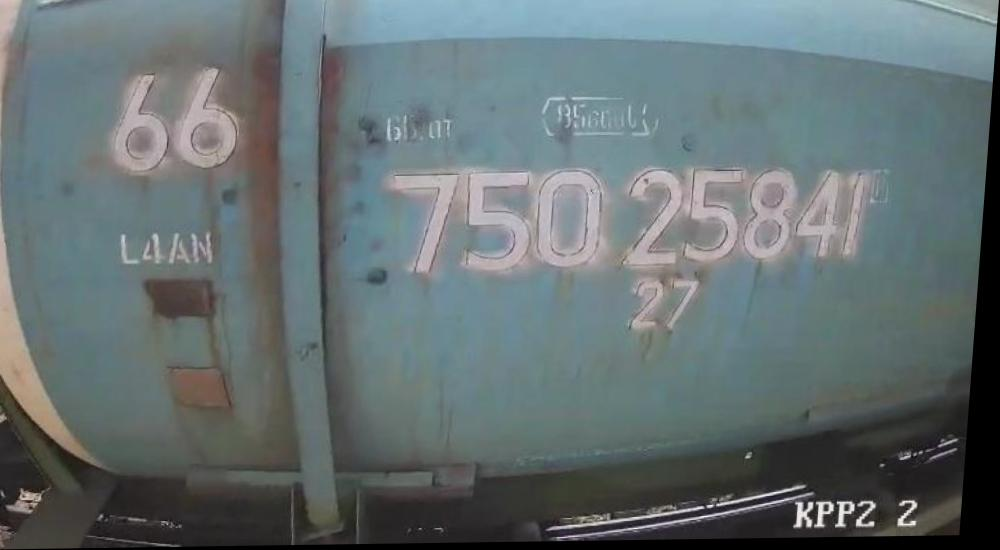Wagon-number: (383, 158, 874, 275)
